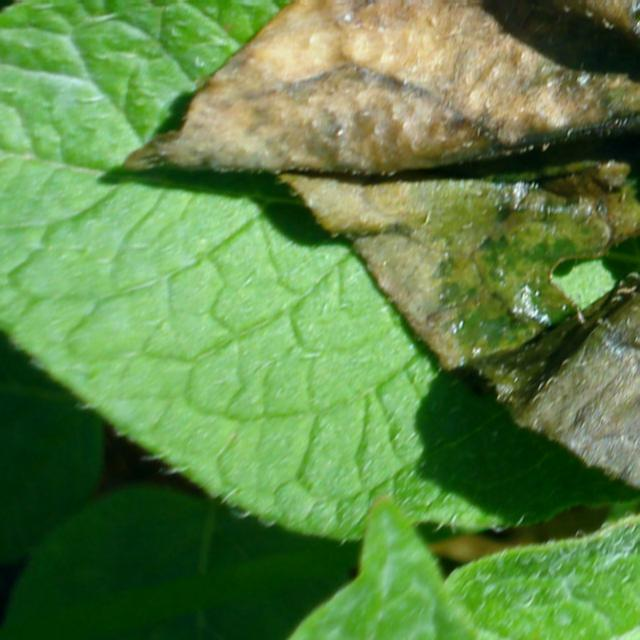Tomato leaf late blight: (102, 0, 640, 573)
